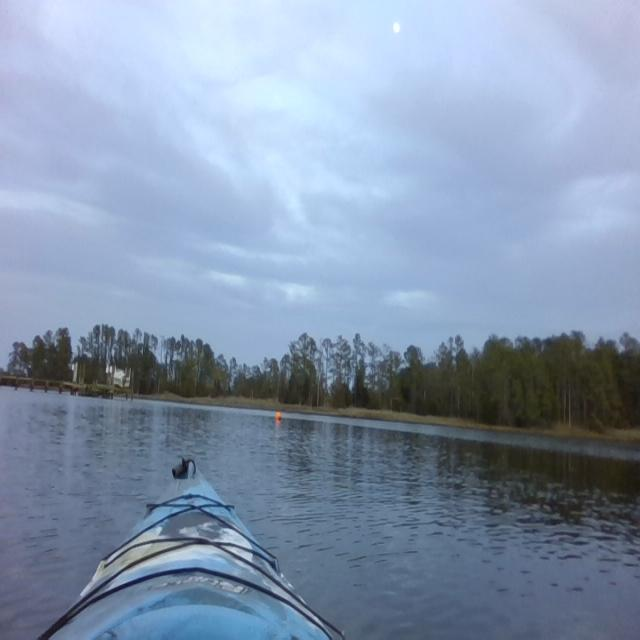Buoy: (274, 409, 282, 423)
